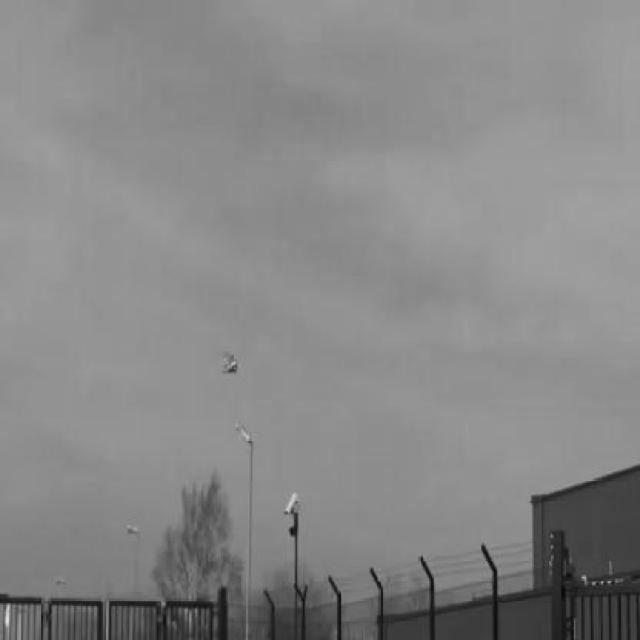helikopter: (212, 344, 246, 386)
